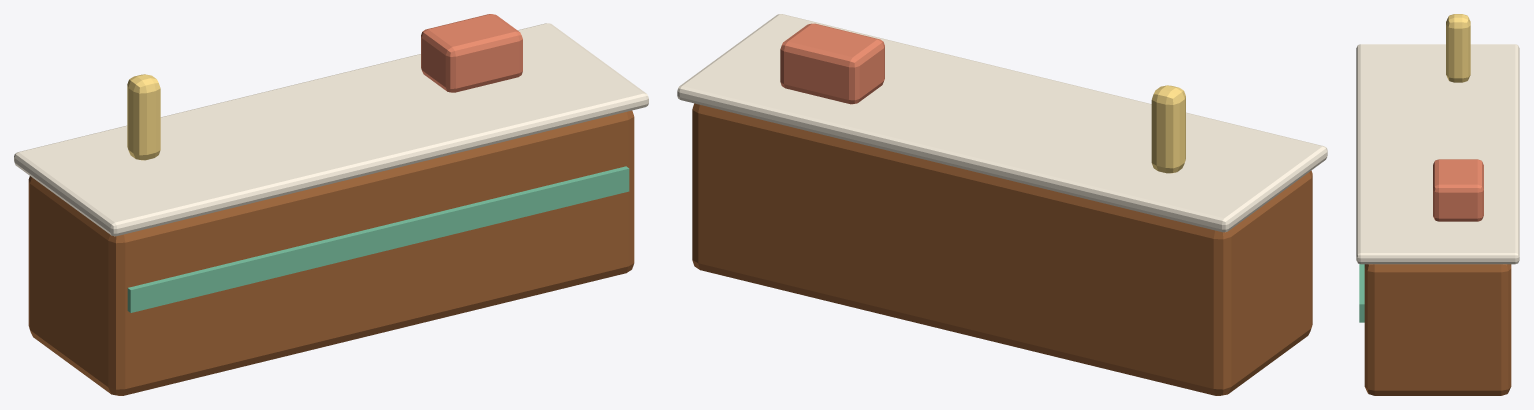
The model's file is int_mejaPustakawan.fbx.
The picture shows the model from 3 angles, left to right: view 1: azimuth 30°, elevation 25°; view 2: azimuth 150°, elevation 25°; view 3: azimuth 270°, elevation 25°; orthographic projection. The views are drawn at different scales.
Visible parts, largest first — view 1: int_mejaPustakawan; view 2: int_mejaPustakawan; view 3: int_mejaPustakawan.
Boxes of the visible parts, bbox=[...] form: int_mejaPustakawan: bbox=[14, 14, 648, 395]; int_mejaPustakawan: bbox=[677, 14, 1327, 395]; int_mejaPustakawan: bbox=[1356, 14, 1519, 395].
Size of the model in its own units: 246 by 114 by 80.
Materials: 1 (1 with a texture image).
